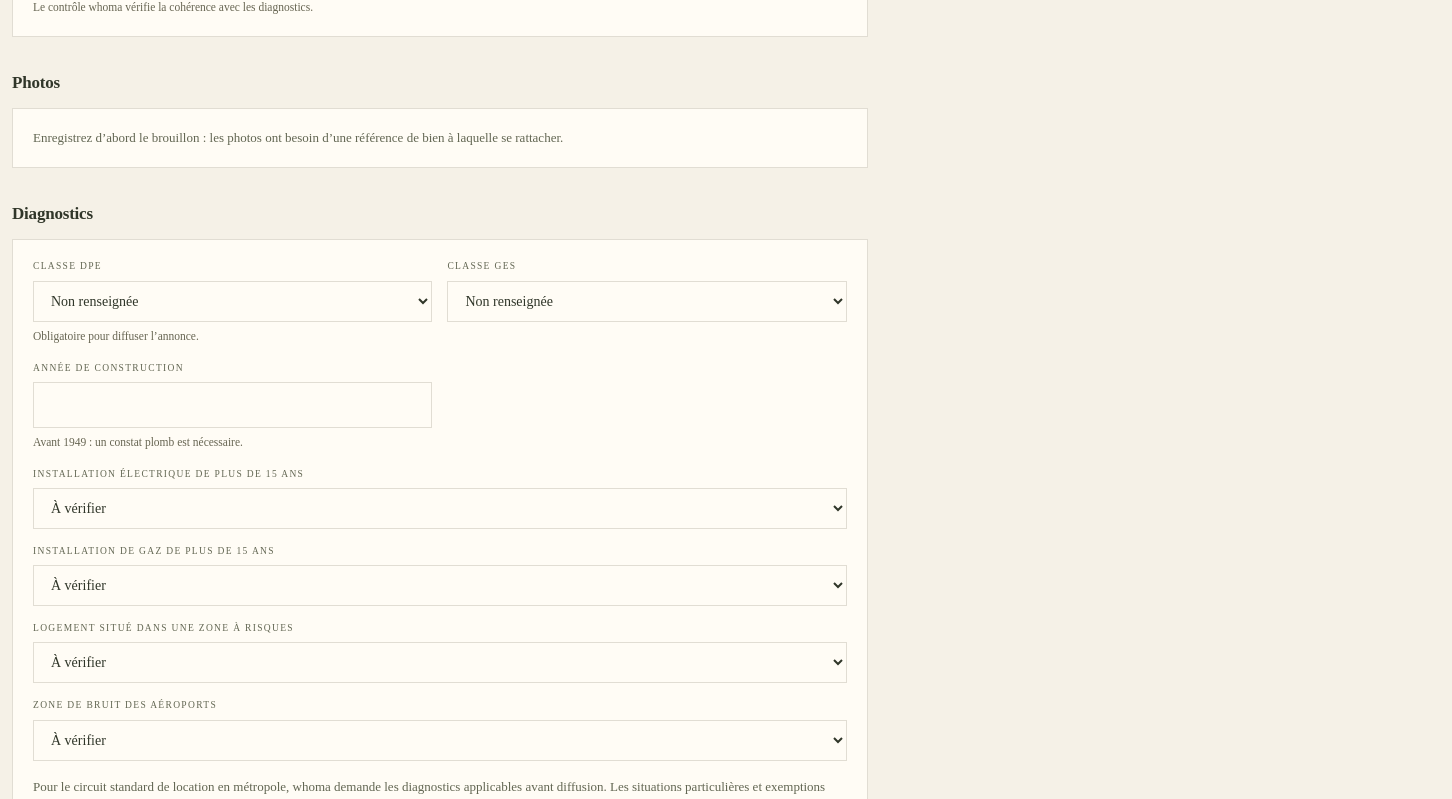
Test: conserve les situations inconnues et adapte les pièces attendues après saisie
(page scrolled)
Expected: the dropdown labelled "Installation de gaz de plus de 15 ans" shows "À vérifier", x1=33 y1=565 x2=847 y2=606
Expected: the dropdown labelled "Logement situé dans une zone à risques" shows "À vérifier", x1=33 y1=642 x2=847 y2=683
Type "1940" into the number field labelled "Année de construction" at [233, 405], box x1=33 y1=382 x2=432 y2=428
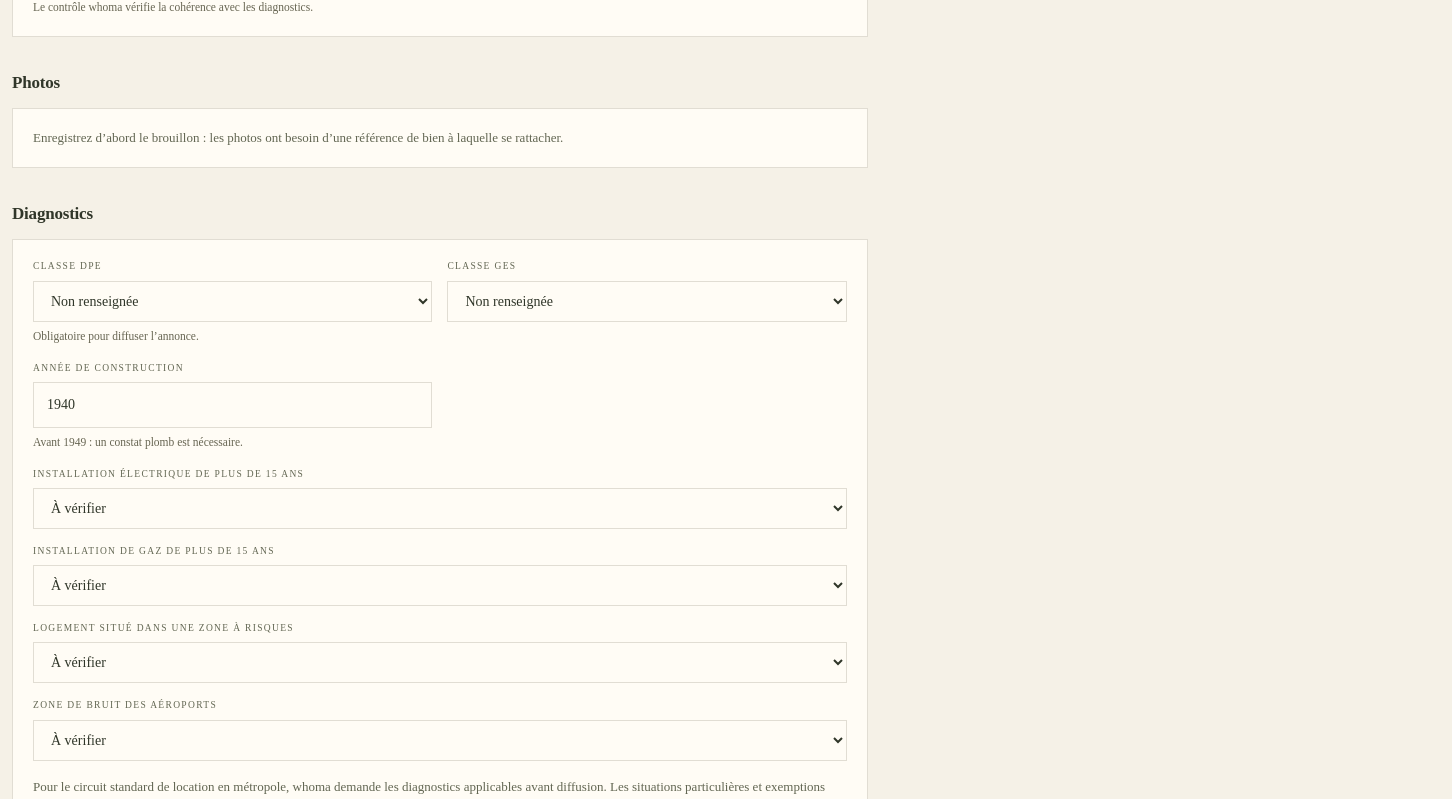
Select "Oui : diagnostic à fournir" in the dropdown labelled "Installation de gaz de plus de 15 ans" at [440, 586], box x1=33 y1=565 x2=847 y2=606
(page scrolled)
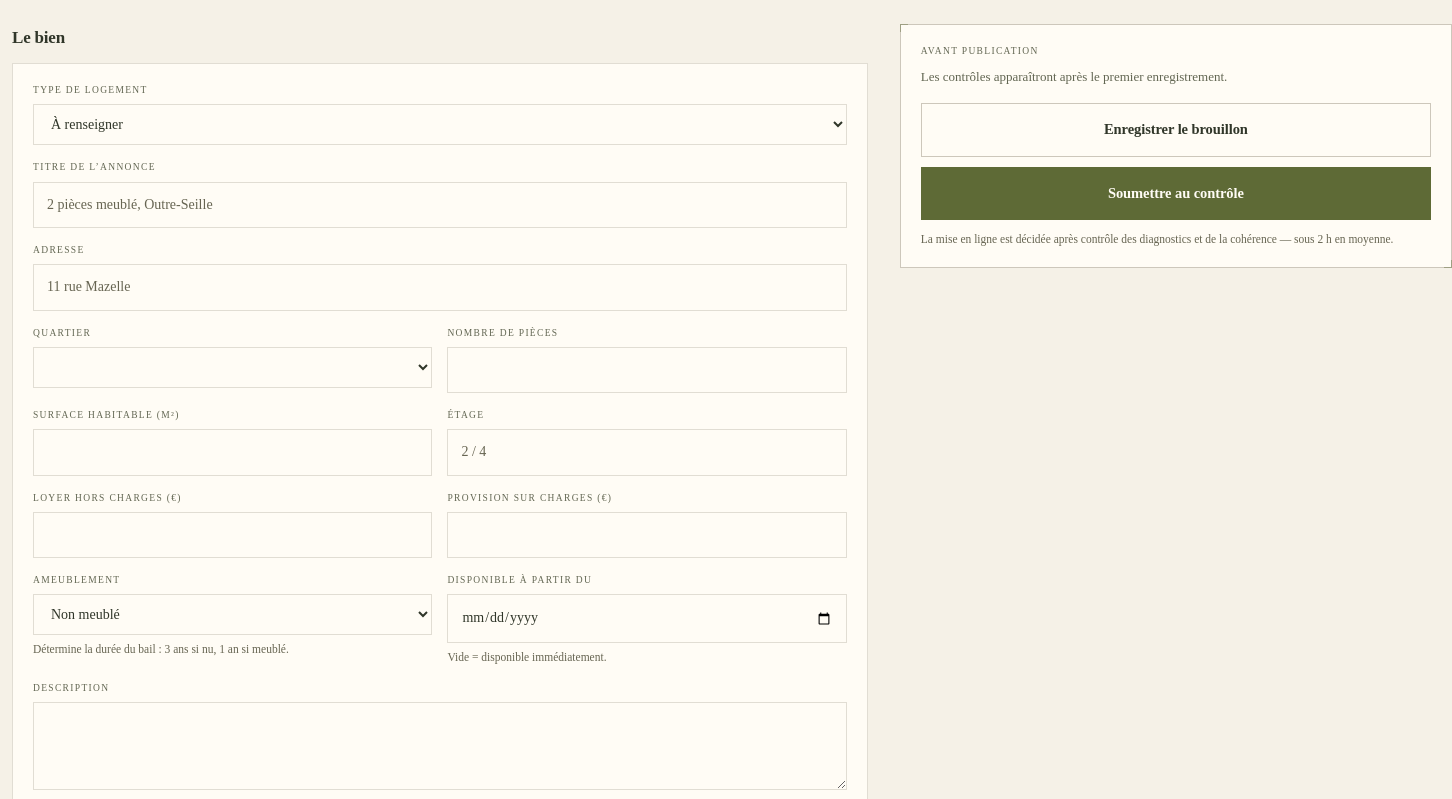
Click the button "Enregistrer le brouillon" at [1176, 130], box x1=921 y1=103 x2=1431 y2=156
(page scrolled)
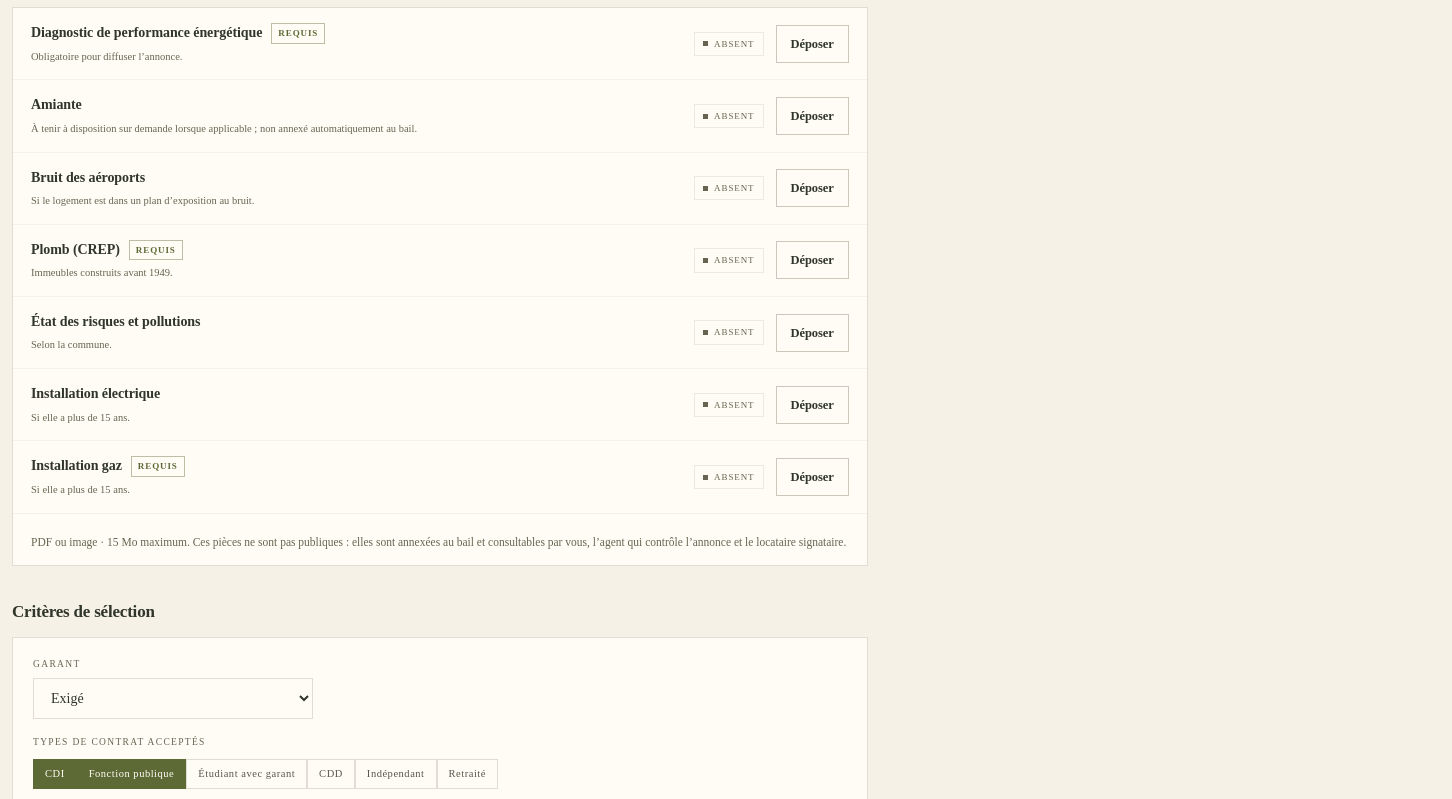
Expected: the text "Installation électrique" does not show "requis", x1=13 y1=369 x2=867 y2=441
Expected: the text "Installation gaz" shows "requis", x1=138 y1=461 x2=178 y2=471
Expected: the text "Plomb (CREP)" shows "requis", x1=136 y1=245 x2=176 y2=255
